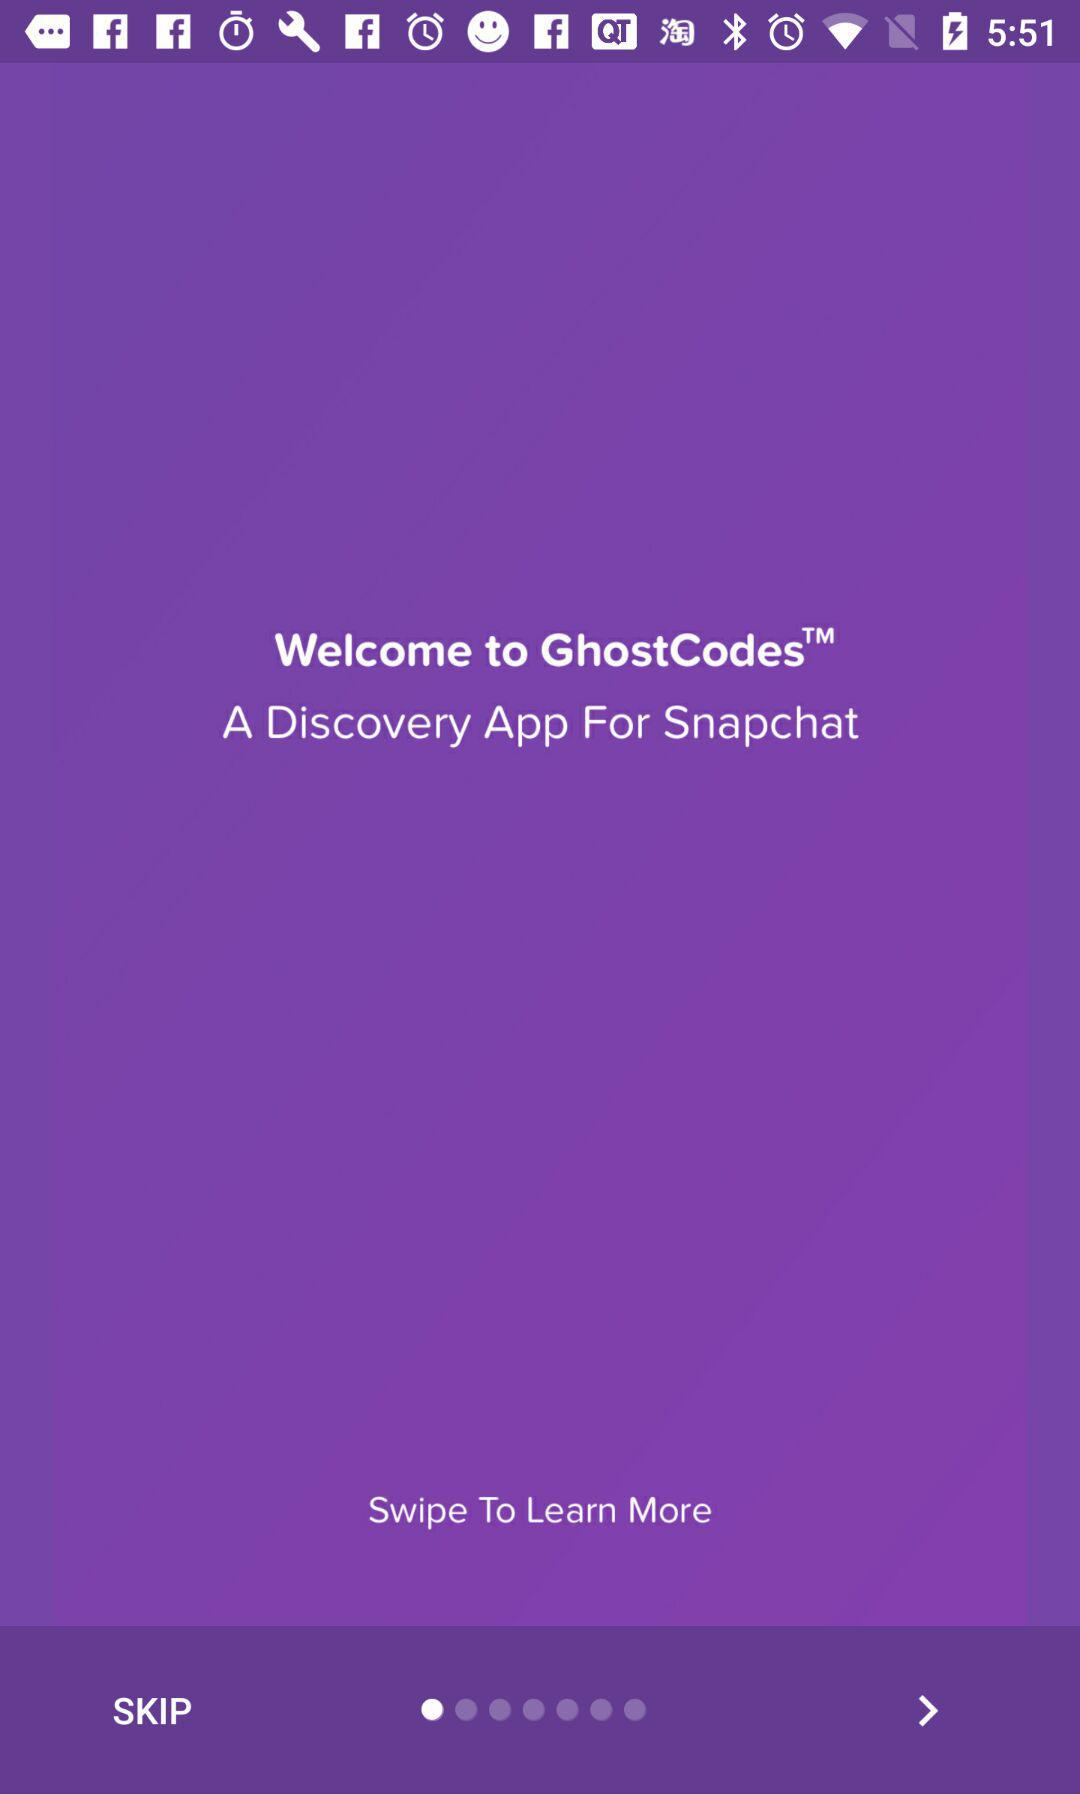Icon: (917, 1694, 940, 1727)
PageIndicator: (419, 1697, 648, 1724)
Text: (222, 704, 861, 751), (272, 627, 837, 671), (369, 1495, 714, 1533), (114, 1697, 193, 1726)
UpperTaskBar: (1, 1, 1080, 64)
